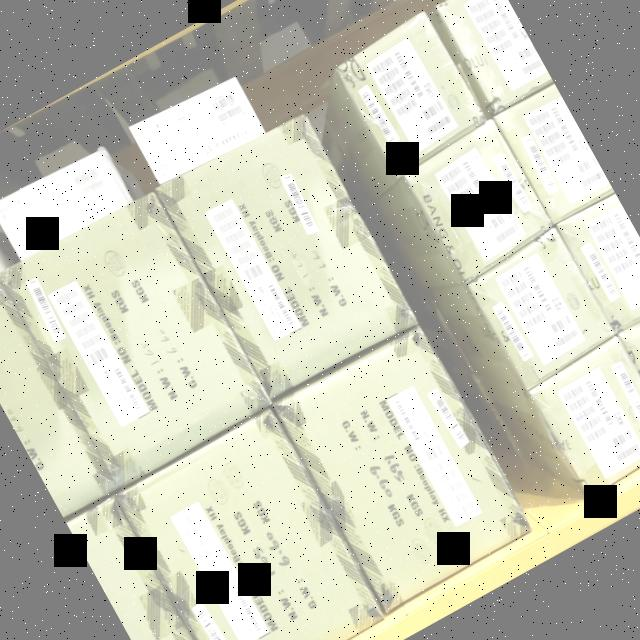box: (6, 196, 268, 484), (159, 112, 415, 400), (278, 328, 532, 608), (119, 412, 388, 640), (336, 16, 483, 168), (472, 237, 614, 386), (408, 128, 546, 270), (533, 342, 640, 491)
